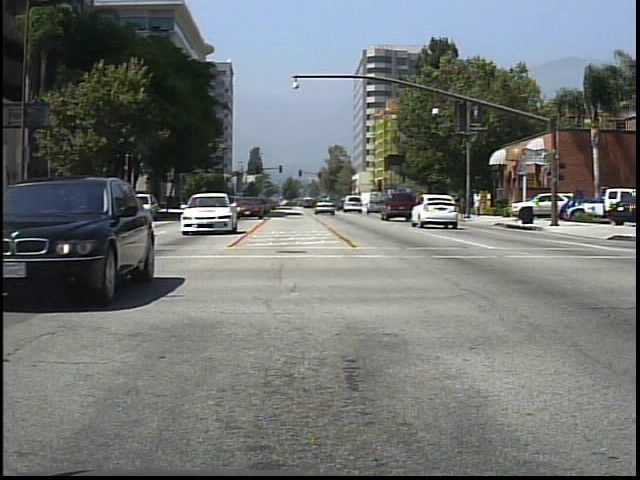person: (436, 191, 452, 221), (473, 191, 485, 219)
